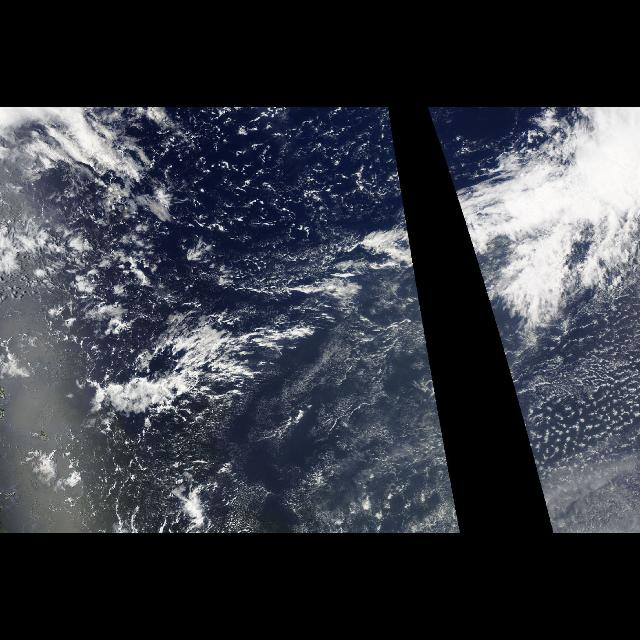Fish: (38, 245, 418, 443)
Gravel: (143, 109, 400, 261)
Sugar: (276, 356, 456, 508), (505, 357, 513, 388)
